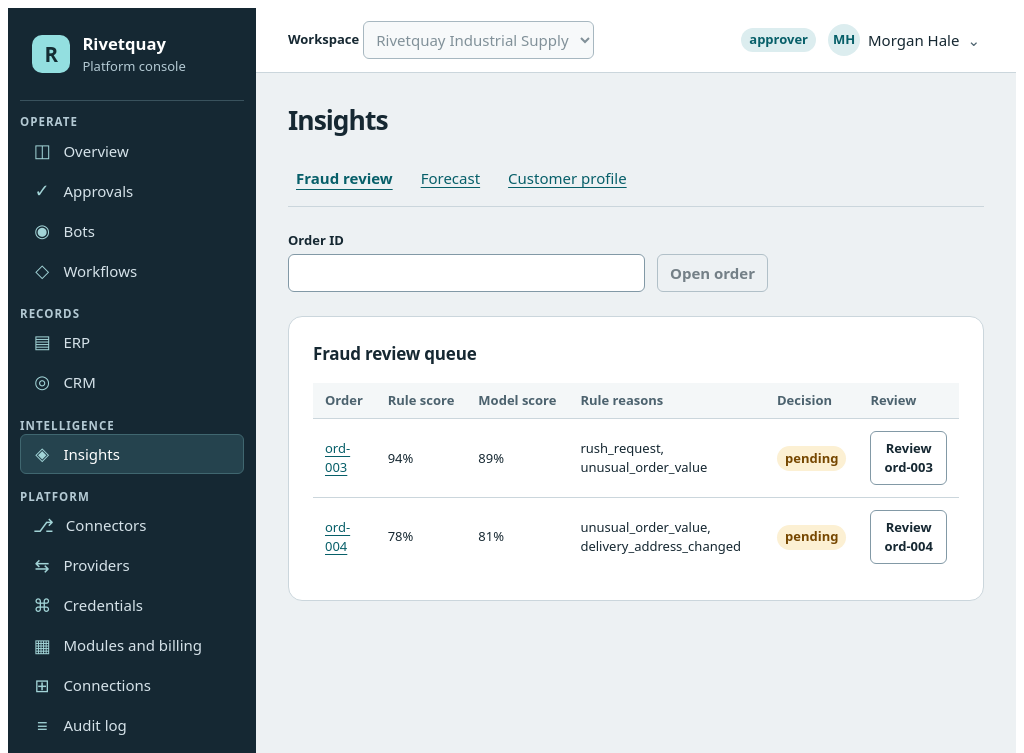
Test: reviews fraud with both scores and reasons and displays a denied mutation toast
Expected: the column heading "Rule score" is shown, [376,383,466,419]
Expected: the column heading "Model score" is shown, [466,383,568,419]
Click the button "Review ord-003" at (909, 458), box [870,431,947,485]
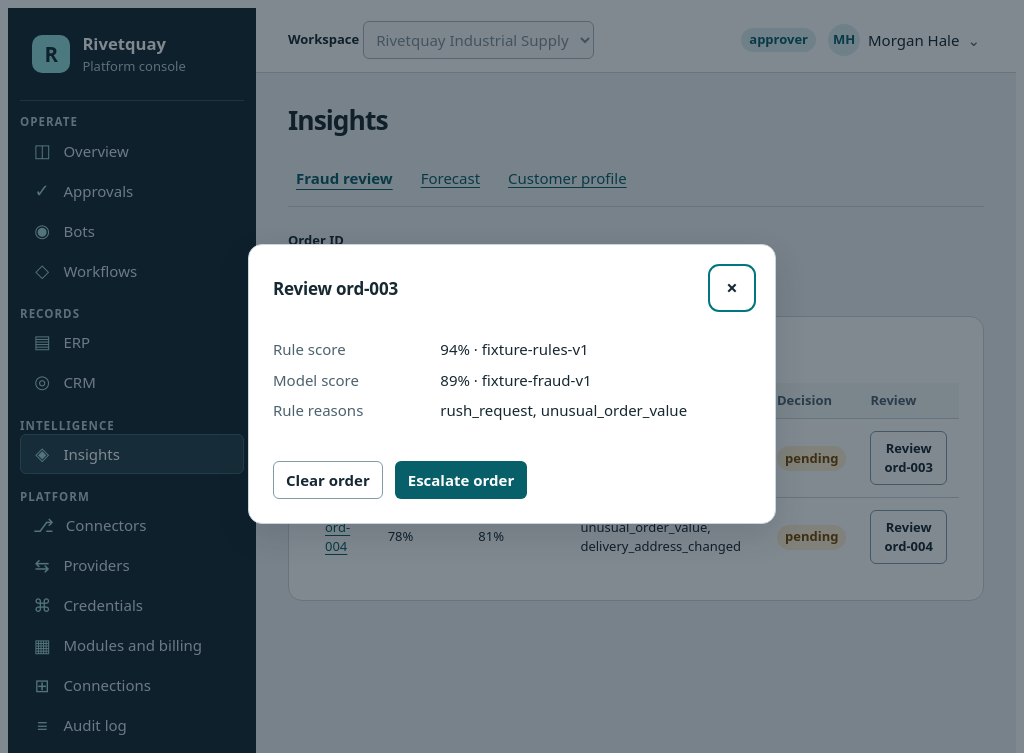
Expected: the text "Rule reasons" is shown, [273,400,363,420]
Click the button "Escalate order" at (461, 480), box [395,461,527,499]
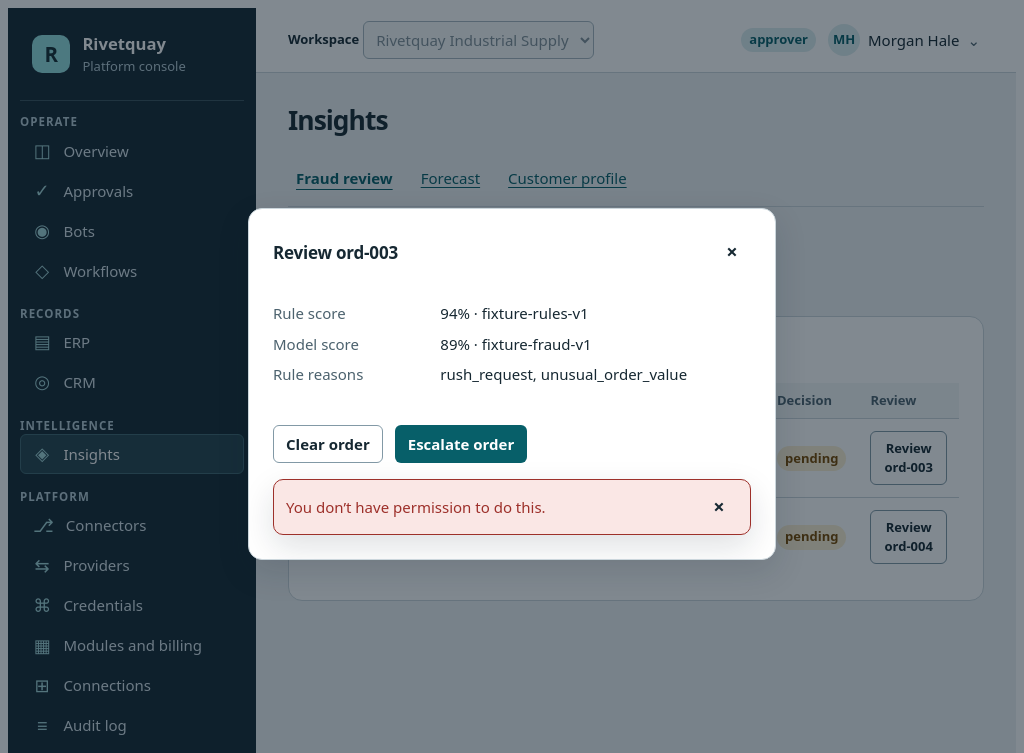
Expected: the message shows "permission", [286,496,546,516]
Click the button "Clear order" at (328, 444), box [273,425,383,463]
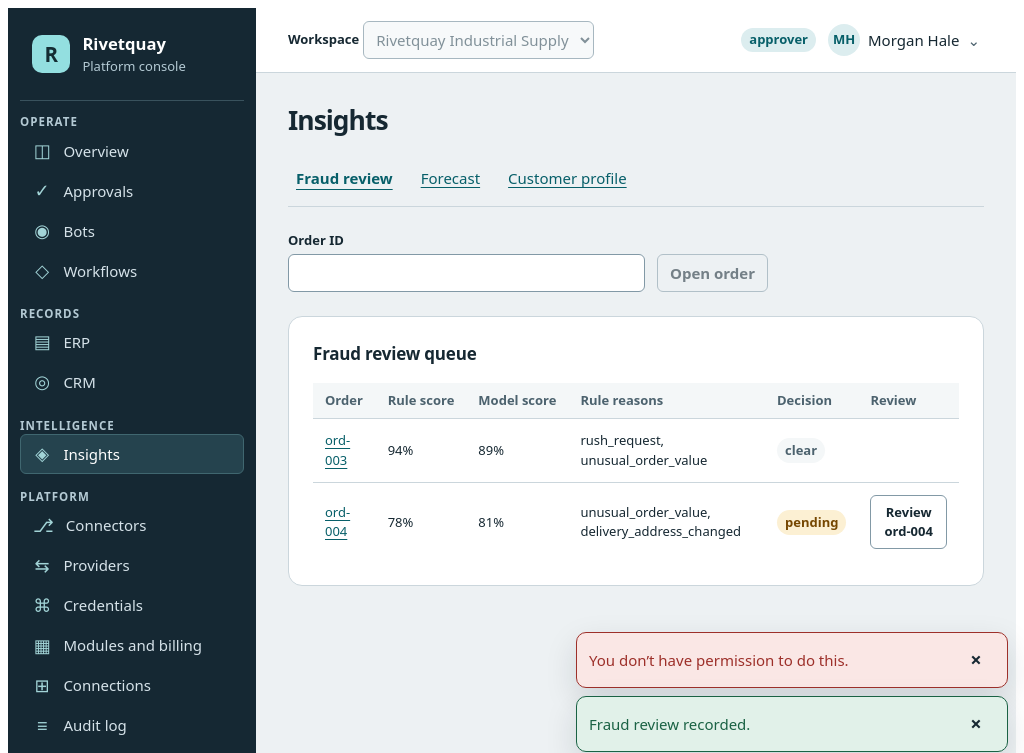
Expected: the text "Fraud review recorded." is shown, [589,713,750,735]
Expected: the text "clear" is shown, [777,438,825,463]
